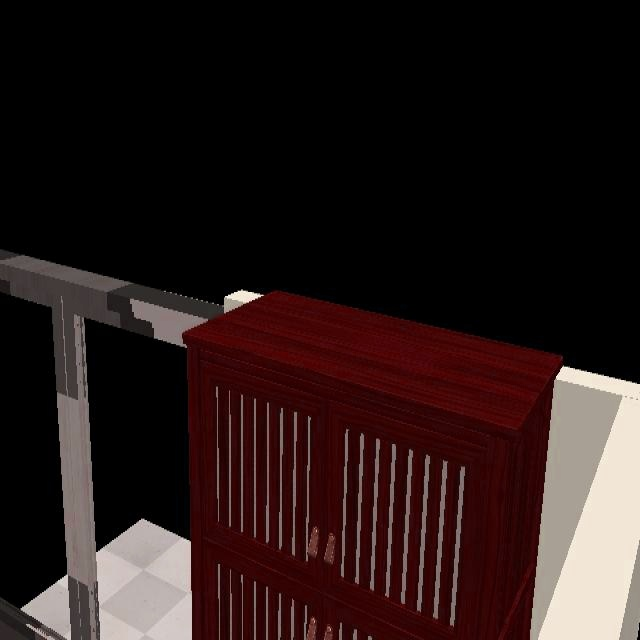wardrobe: (181, 292, 564, 640)
